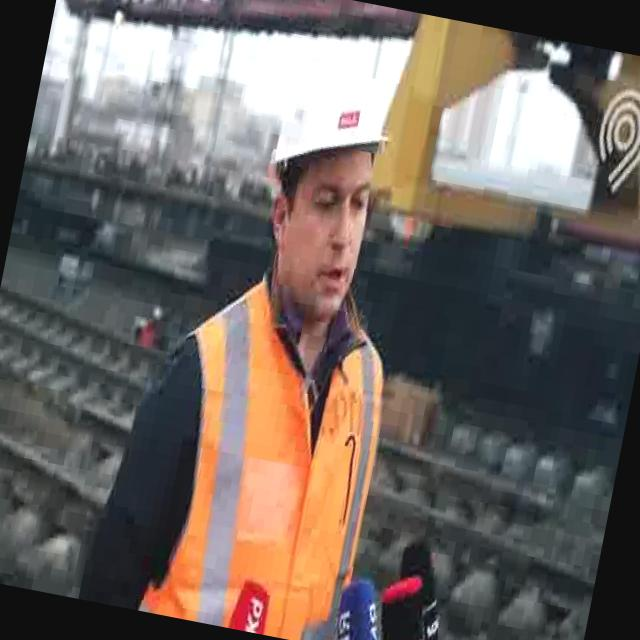helmet: (268, 35, 408, 191)
vest: (120, 241, 415, 640)
